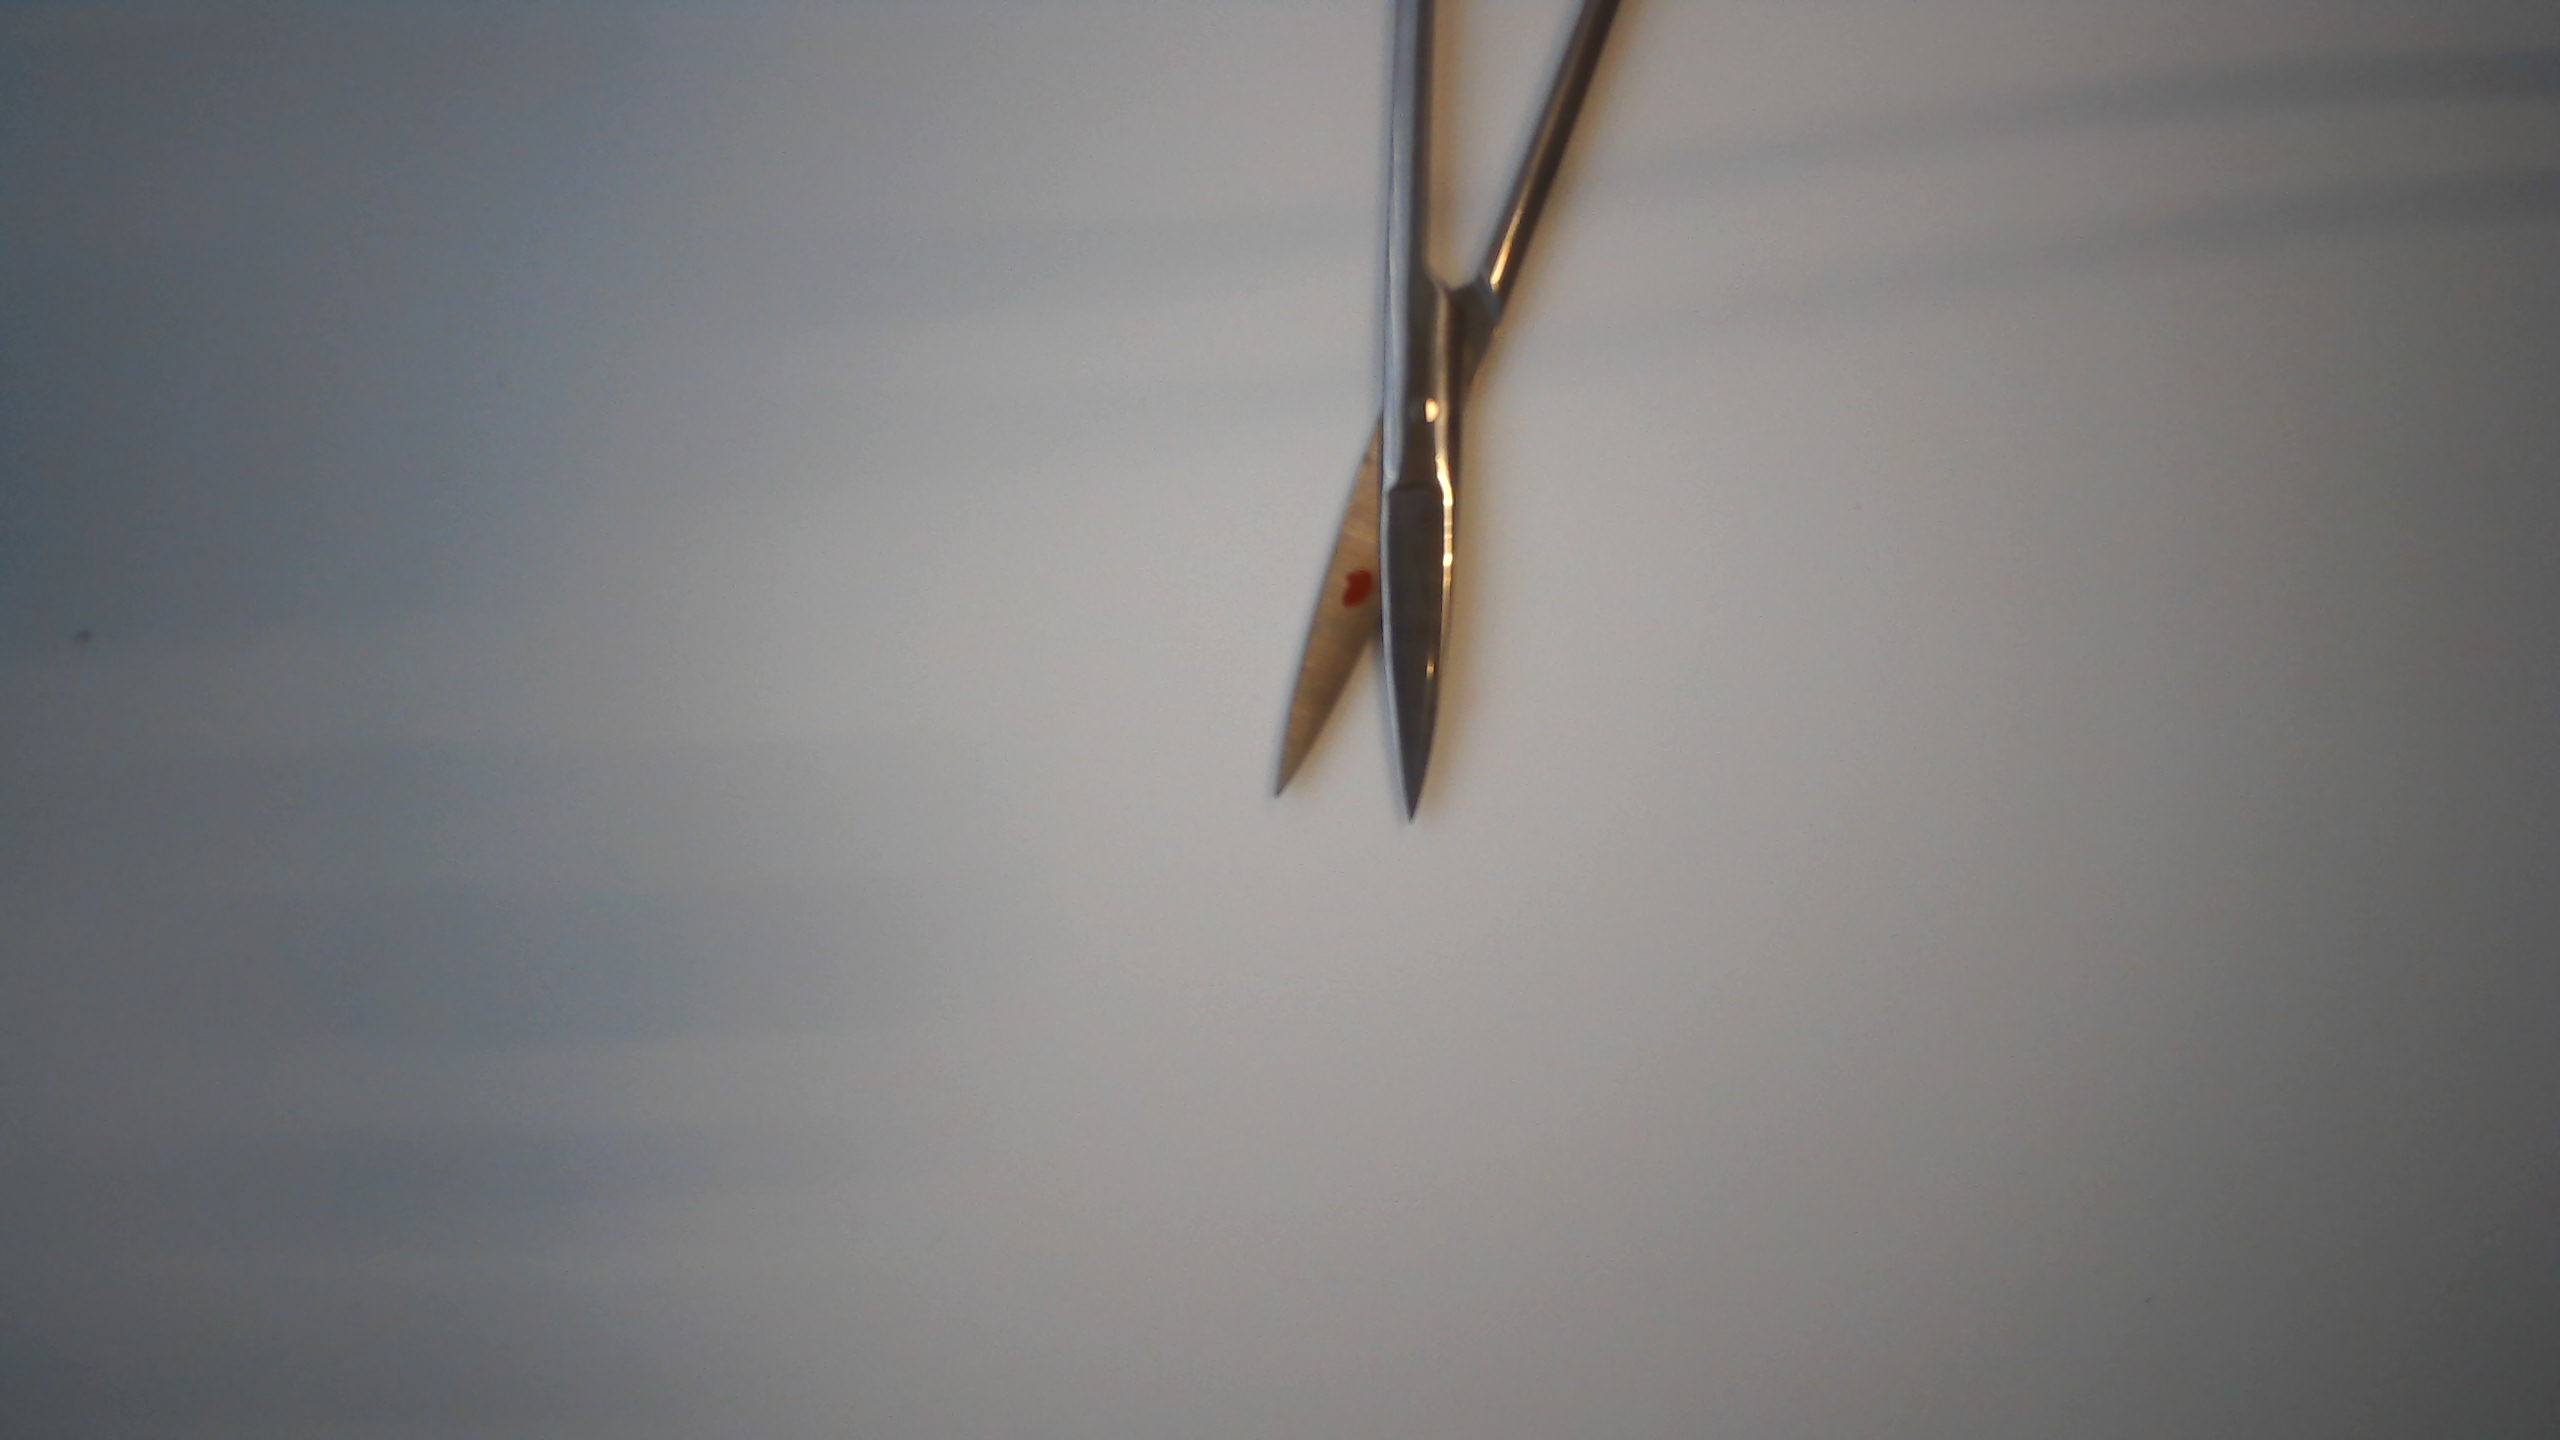Stain: (1340, 549, 1382, 631)
